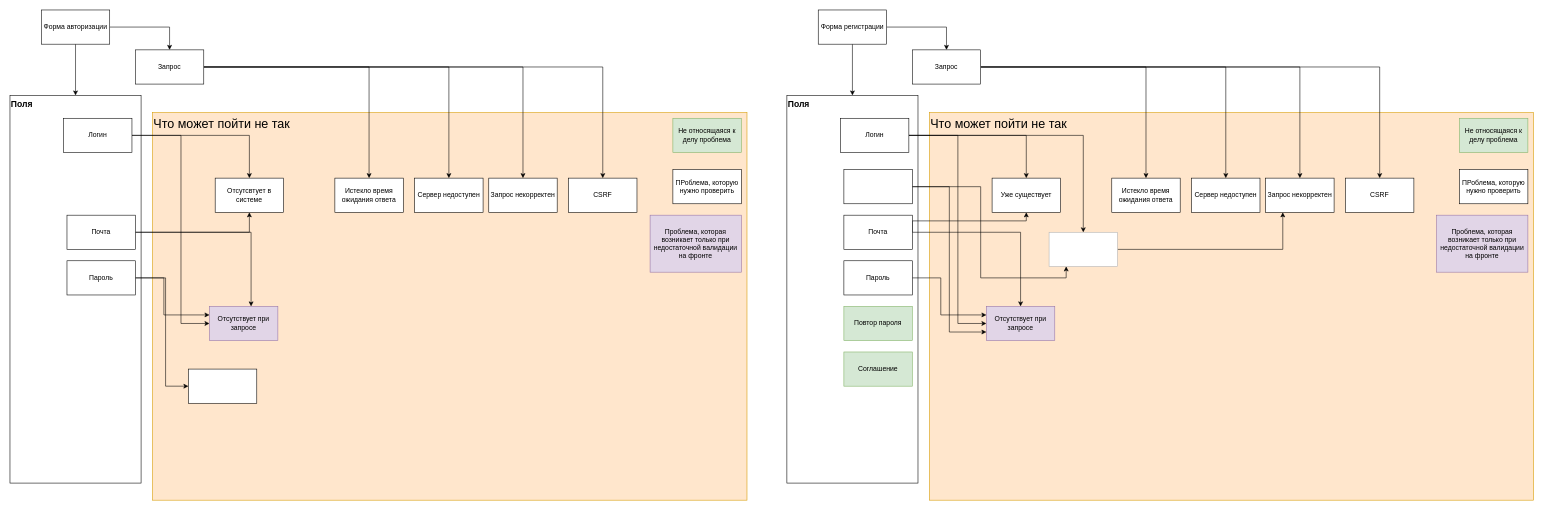
Image size: 1544x510. Some labels were removed from this diagram. Each missing label, with the centre of its shape:
Не подходит: the point at 222,386
Не подходит по валидации: the point at 1083,249
Позывной: the point at 877,186
